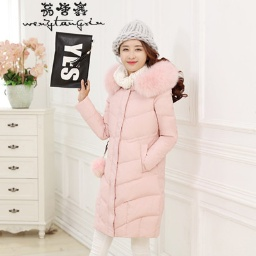face: (110, 35, 162, 72)
